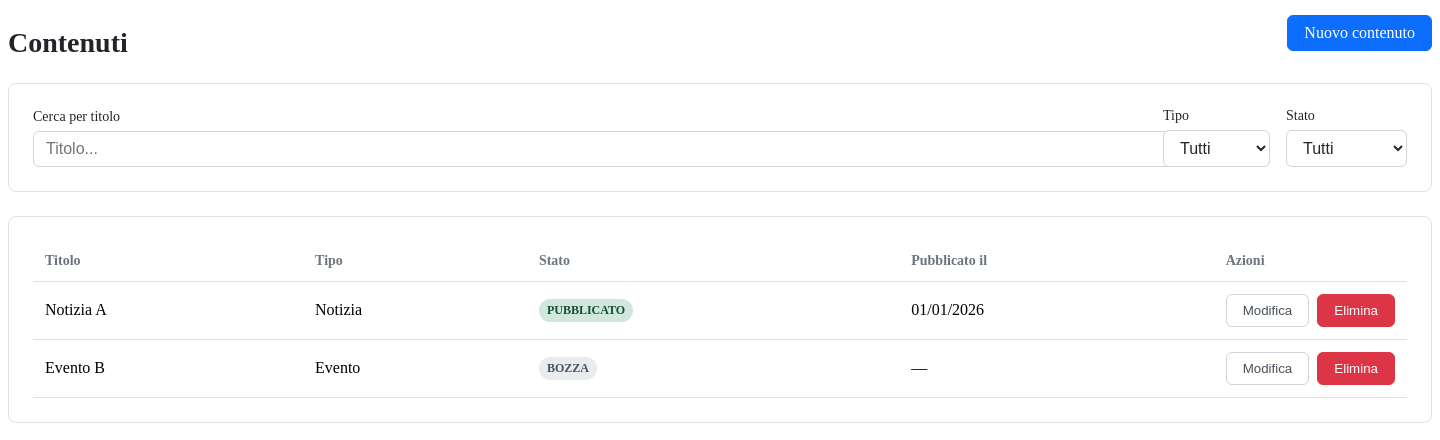
ContentListPage › renders contents and filters by status
Expected: the text "Notizia A" is shown, [33,281,303,339]
Expected: the text "Evento B" is shown, [33,339,303,397]
Select "Pubblicato" in the dropdown labelled "Stato": (1346, 148) [1286,130,1407,167]
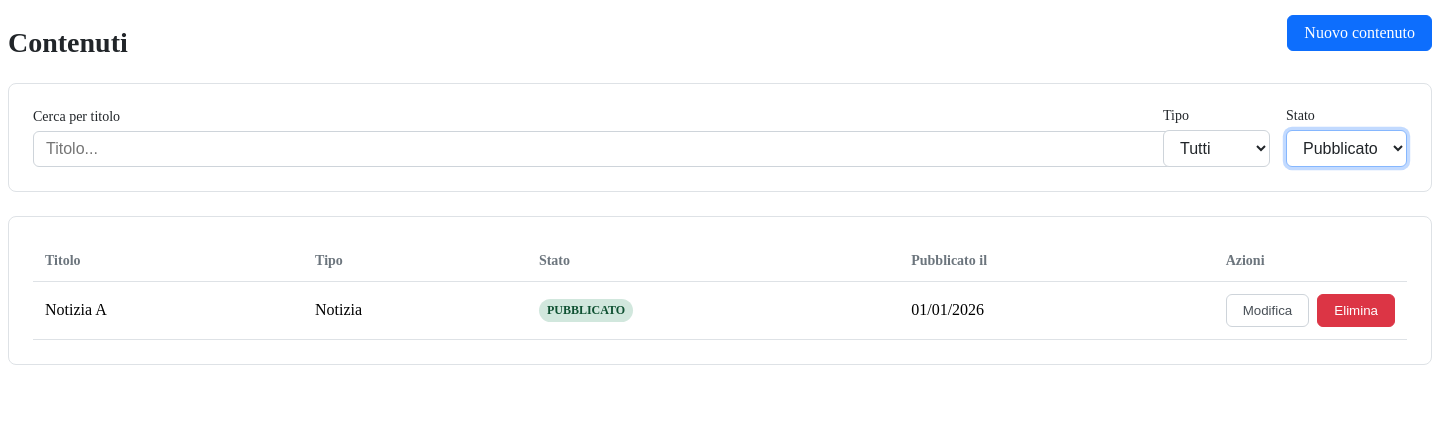
Expected: the text "Notizia A" is shown, [33,281,303,339]
Result: the text "Evento B" is gone
